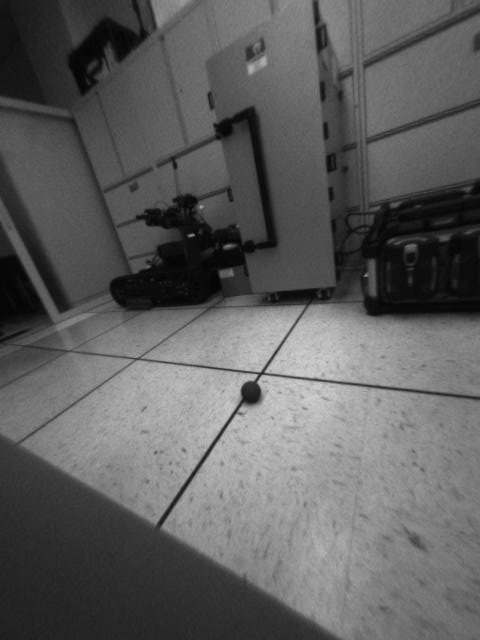dogtoy: (232, 374, 272, 413)
